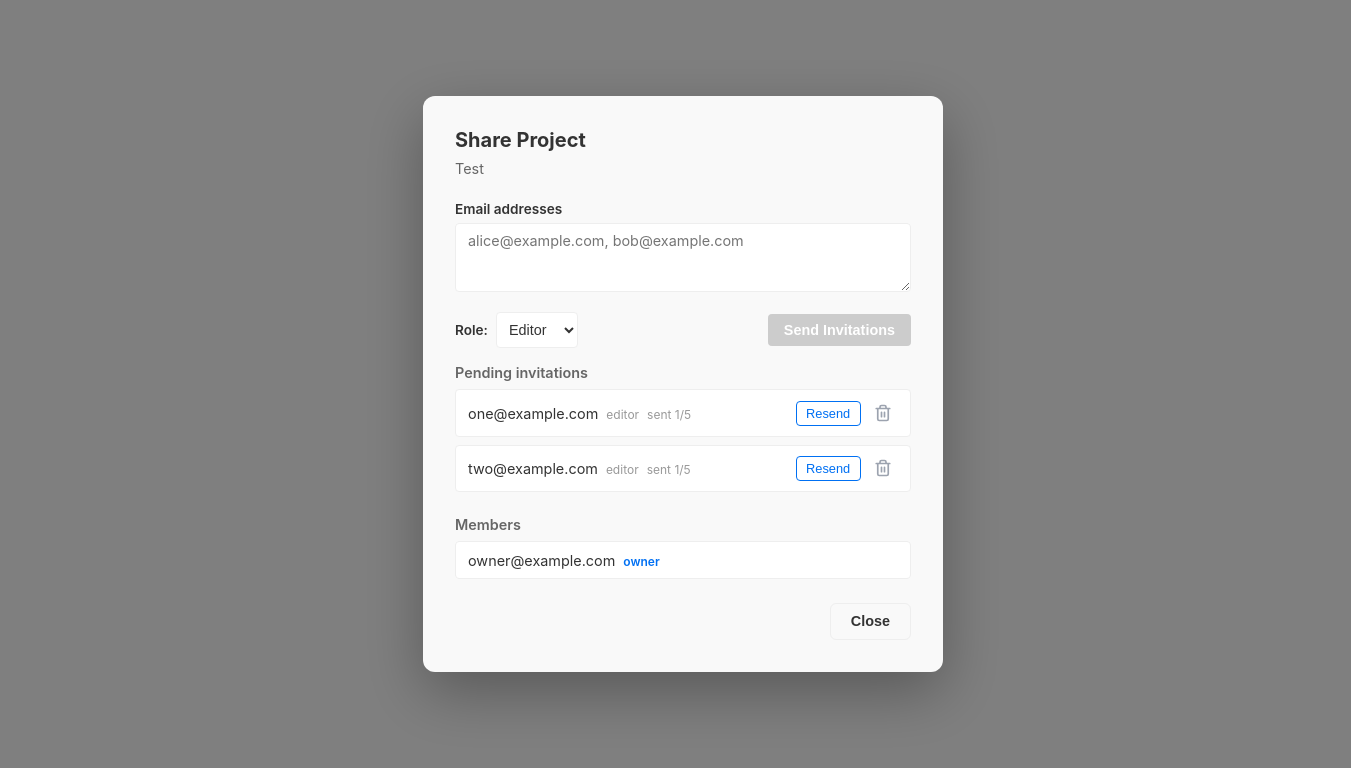
Test case: ShareDialog invitations › revoking › names the invitee in the confirm, then revokes that invitation and refreshes the list
The width and height of the screenshot is (1366, 768).
Step 1. Click the button named "Revoke invitation" in the row of "two@example.com" → [883, 468], box [869, 454, 898, 483]
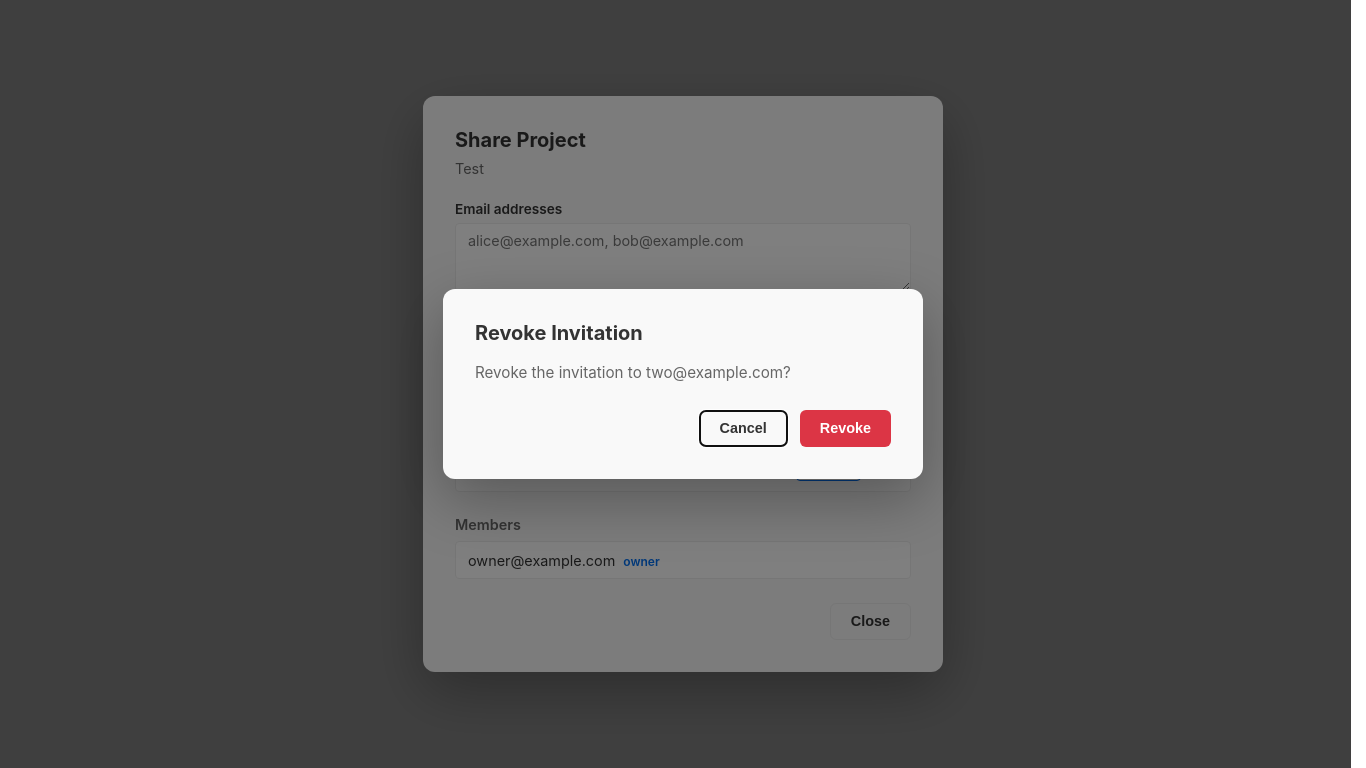
Result: the text "Revoke the invitation to two@example.com?" is shown at [475, 363, 791, 382]
Step 2. Click the button "Revoke" → [845, 428], box [800, 410, 891, 447]
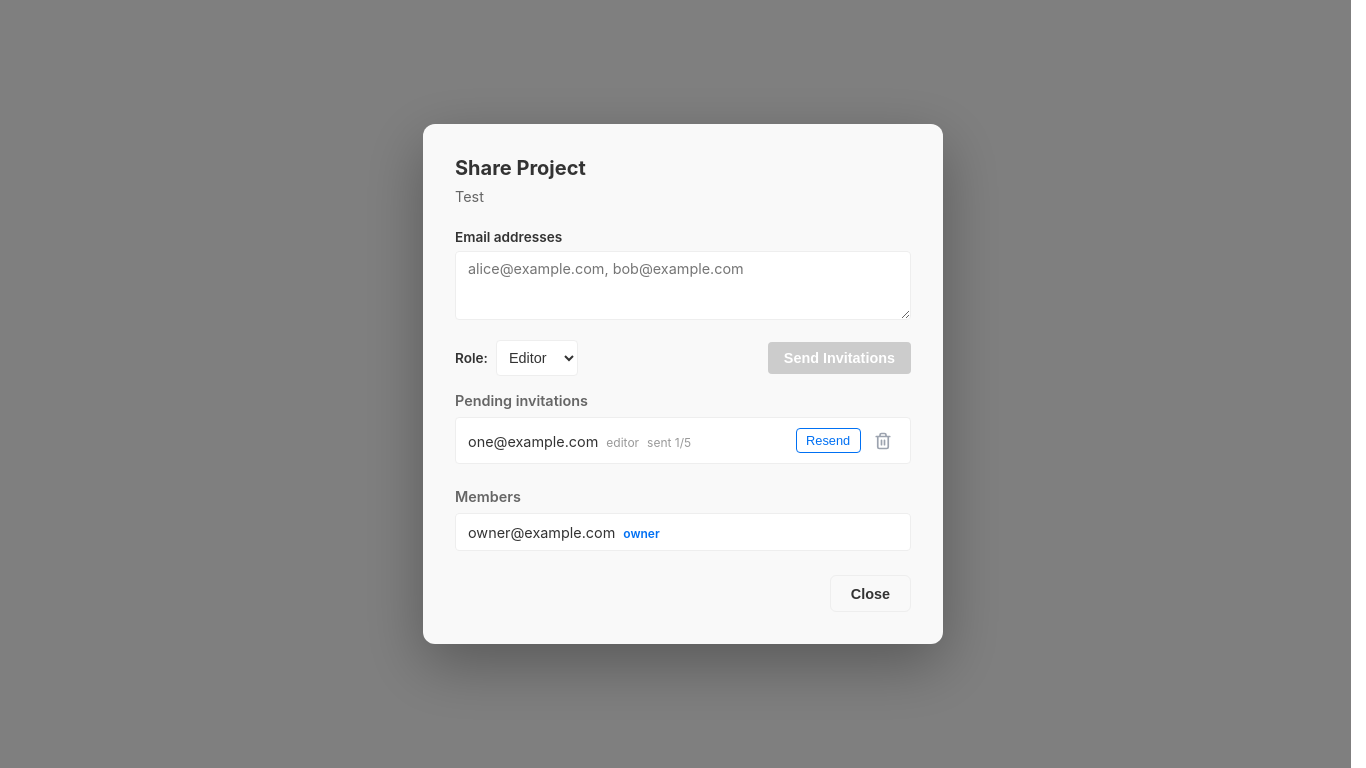
Expected: the text "two@example.com" is not shown
Result: the heading "Revoke Invitation" is gone
